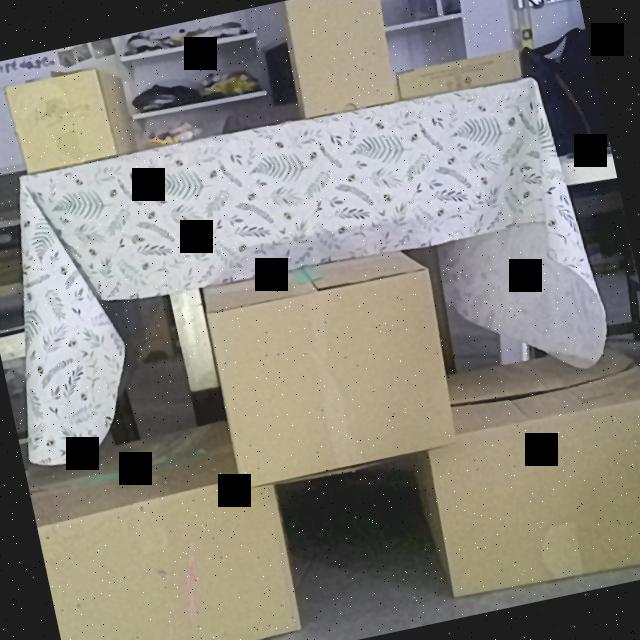box: (208, 266, 461, 490), (421, 391, 640, 600), (36, 476, 301, 640), (284, 0, 396, 119), (5, 64, 117, 176), (396, 47, 524, 100)
